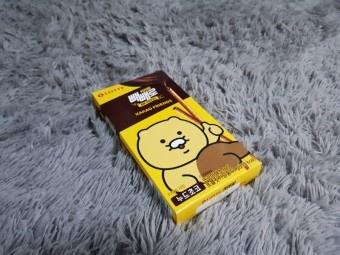snack: (92, 69, 264, 226)
